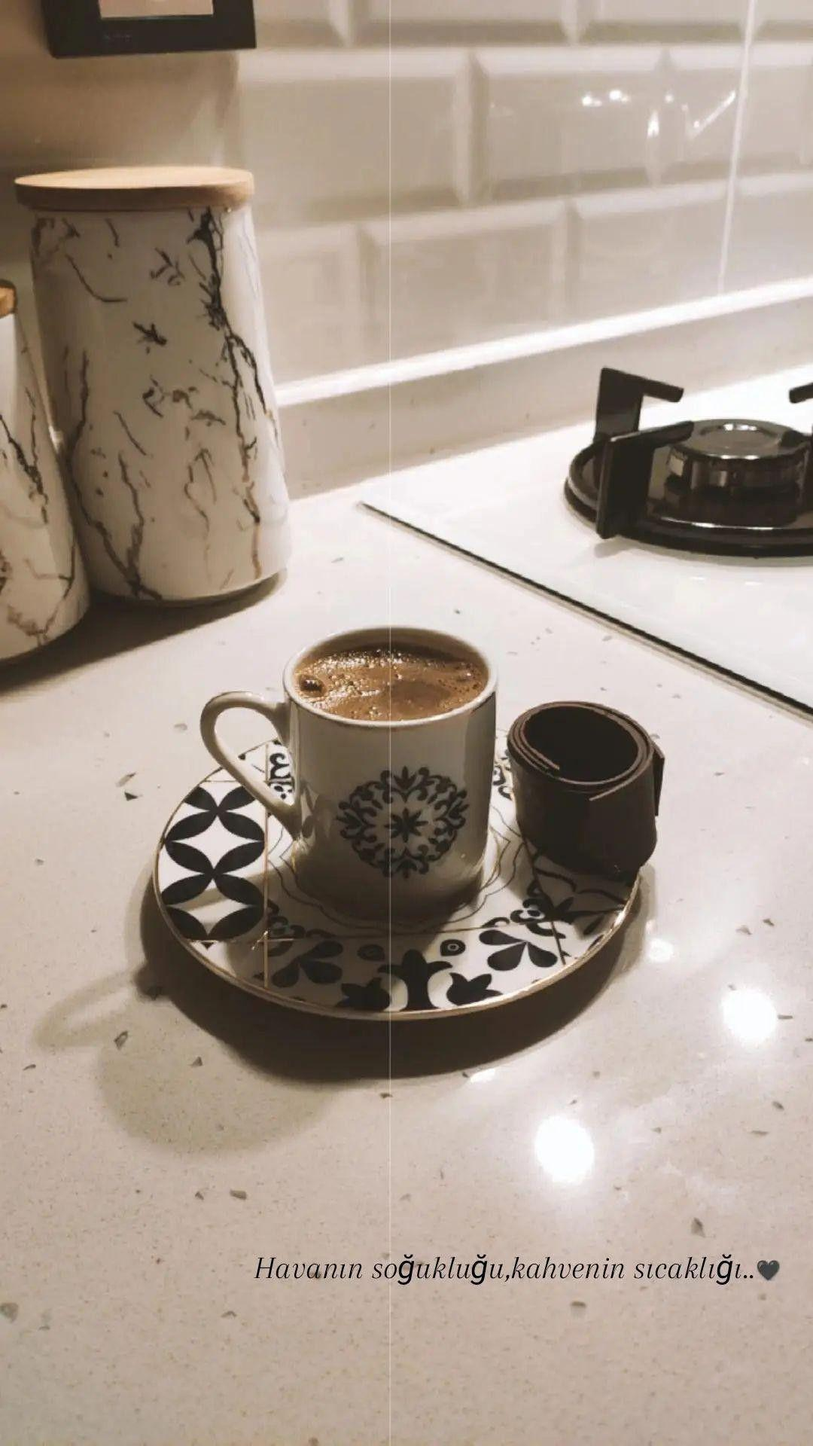cup-handle: (196, 615, 501, 928)
